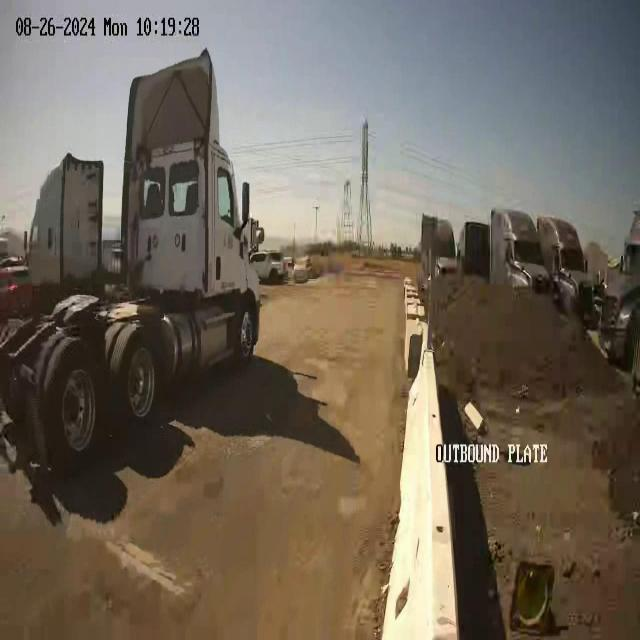BOBTAIL: (2, 46, 265, 473)
